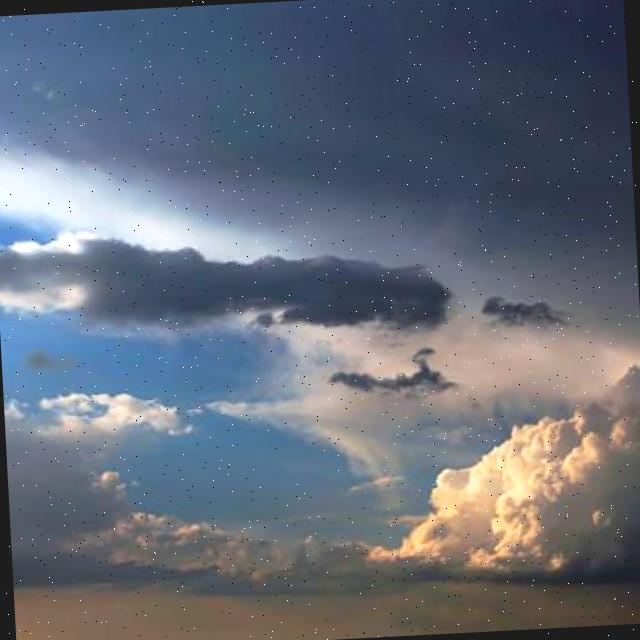Ns: (1, 191, 557, 424)
